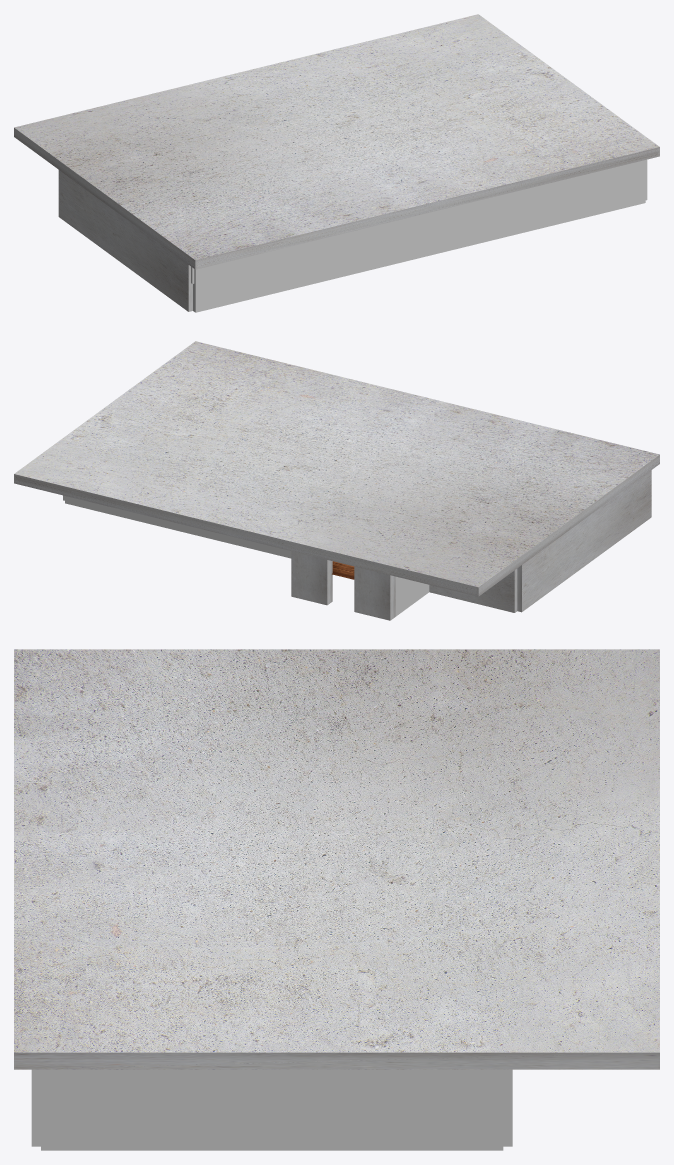
The model's file is Stage1.fbx.
3 renders of one model, top to bottom at view 1: azimuth 30°, elevation 25°; view 2: azimuth 150°, elevation 25°; view 3: azimuth 270°, elevation 25°, orthographic. The views are drawn at different scales.
Parts seen in each view (by area): view 1: wall.056, wall.038, wall.040; view 2: wall.056, wall.040, wall.043, wall.041, wall.039, wall.004, wall.042; view 3: wall.056, wall.003, wall.039, wall.038.
Boxes of the visible parts, bbox=[...] form: wall.056: bbox=[14, 14, 659, 269]; wall.038: bbox=[193, 160, 645, 312]; wall.040: bbox=[58, 170, 192, 311]; wall.056: bbox=[14, 341, 659, 596]; wall.040: bbox=[517, 470, 651, 612]; wall.043: bbox=[354, 566, 395, 620]; wall.041: bbox=[291, 551, 332, 605]; wall.039: bbox=[65, 496, 291, 558]; wall.004: bbox=[429, 568, 517, 612]; wall.042: bbox=[395, 576, 429, 616]; wall.056: bbox=[14, 649, 659, 1069]; wall.003: bbox=[41, 1069, 503, 1150]; wall.039: bbox=[503, 1069, 512, 1146]; wall.038: bbox=[31, 1069, 40, 1146].
Size of the model in its own units: 5162 by 609 by 3493.
Materials: 3 (2 with a texture image).
